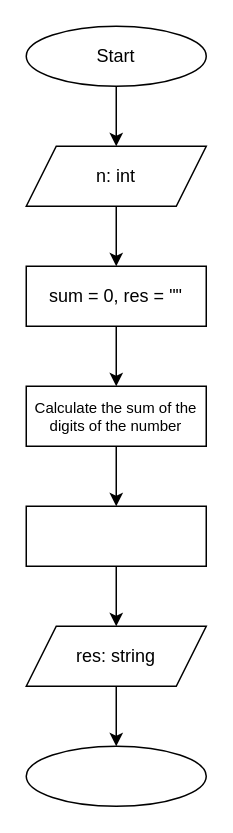
This 233x833 diagram has some shape labels left out. The shapes that lost their labels are listed below. From the top down, each one's centre as x and y in pixels, then its label:
At [115,535]: "Convert the sum to binary and save it in the res variable".
At [115,775]: "End".
